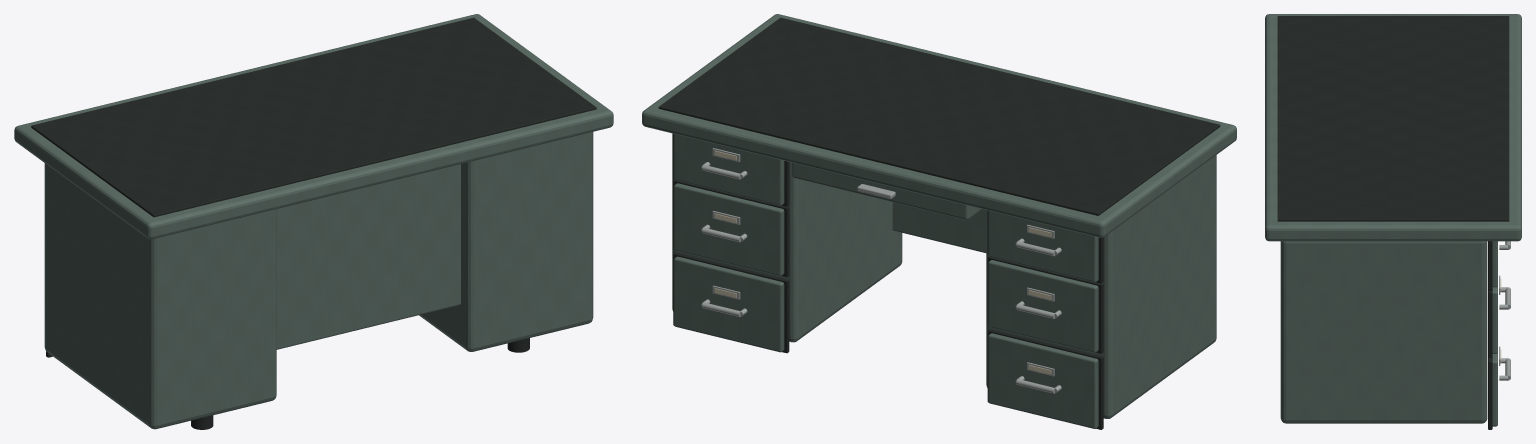
Rendered from SM_Office_Desk.fbx.
3 views of the same model, side by side, from view 1: azimuth 30°, elevation 25°; view 2: azimuth 150°, elevation 25°; view 3: azimuth 270°, elevation 25° (orthographic). The views are drawn at different scales.
Visible parts, largest first — view 1: SM_Office_Desk; view 2: SM_Office_Desk; view 3: SM_Office_Desk.
Boxes of the visible parts, x1,y1,x2,y2 form: SM_Office_Desk: (14, 14, 613, 429); SM_Office_Desk: (642, 14, 1236, 429); SM_Office_Desk: (1265, 14, 1521, 429).
Bounding box in the file's own units: 1.62 × 0.82 × 0.7845.
